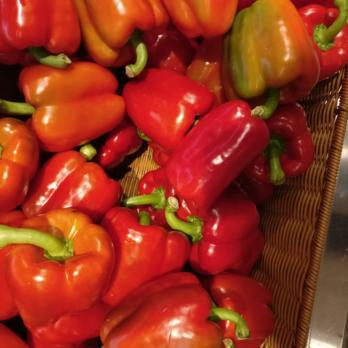Capsicum: (1, 3, 270, 348), (256, 4, 311, 184), (299, 4, 348, 81)
